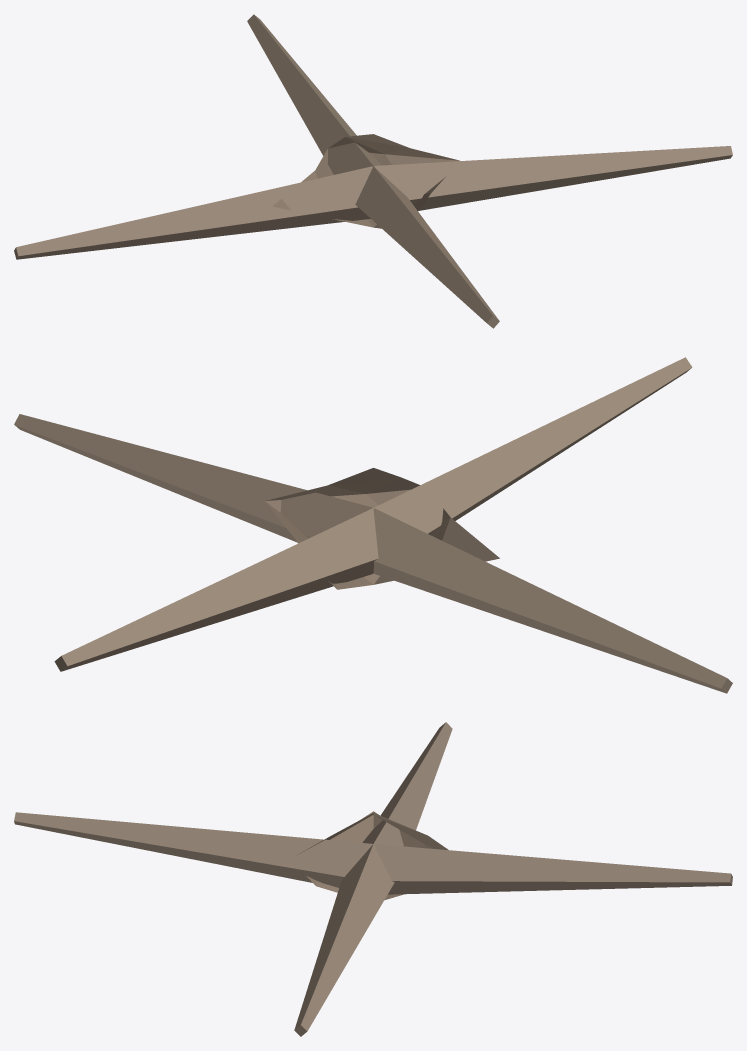
3 views of the same model, one above another, from view 1: azimuth 30°, elevation 25°; view 2: azimuth 150°, elevation 25°; view 3: azimuth 270°, elevation 25° (orthographic). The views are drawn at different scales.
Visible parts, largest first — view 1: lod0; view 2: lod0; view 3: lod0.
Boxes of the visible parts, x1,y1,x2,y2 form: lod0: [14, 14, 732, 328]; lod0: [14, 357, 732, 693]; lod0: [14, 722, 732, 1036].
Size of what is drawn, in the model's own units: 1.28 by 0.1781 by 1.28.
